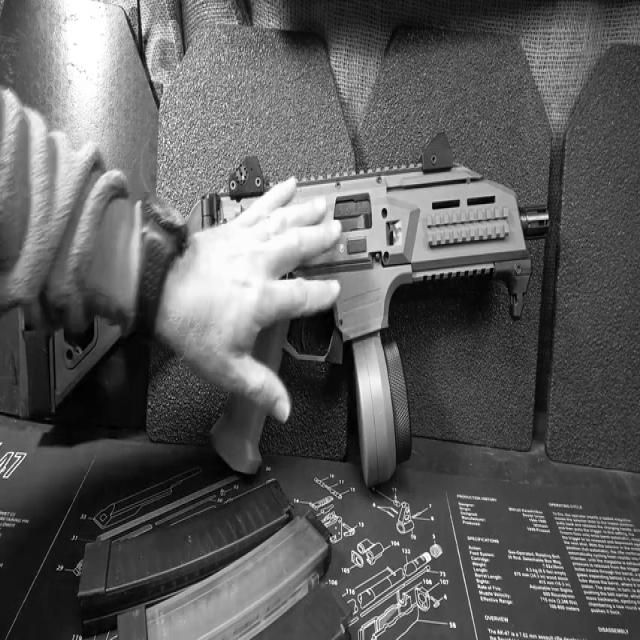Sub-machine-gun: (58, 54, 570, 564)
